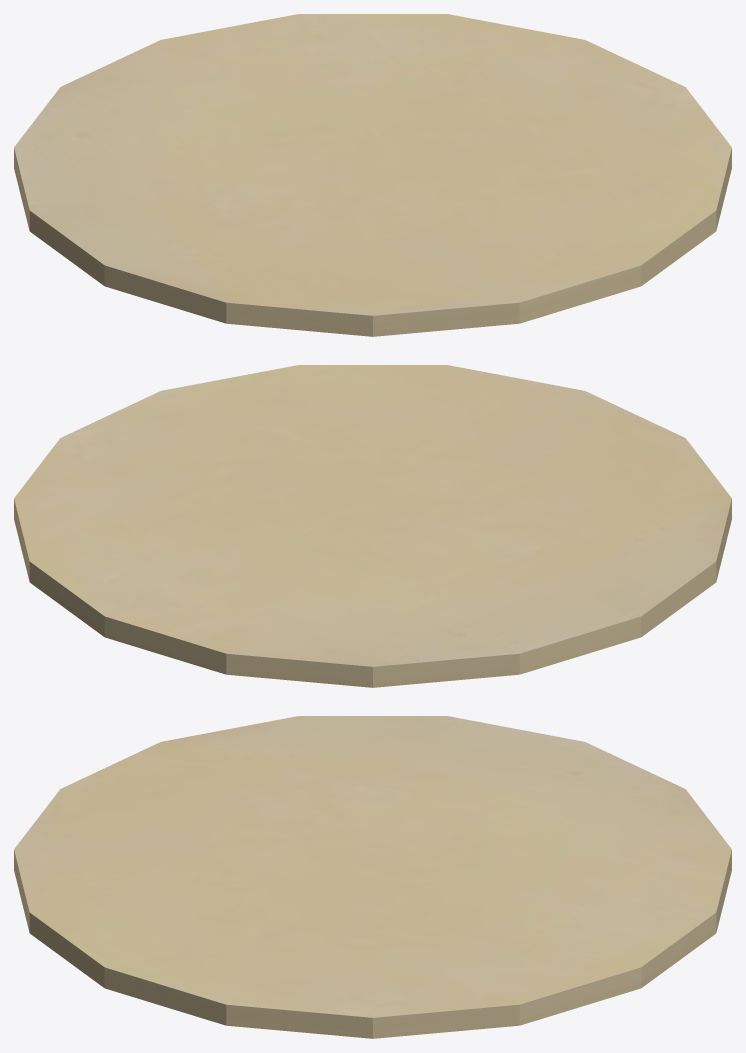
The model's file is cheese block.fbx.
3 renders of one model, top to bottom at view 1: azimuth 30°, elevation 25°; view 2: azimuth 150°, elevation 25°; view 3: azimuth 270°, elevation 25°, orthographic.
Visible parts, largest first — view 1: Cheese; view 2: Cheese; view 3: Cheese.
Boxes of the visible parts, box(x1,y1,x2,y2) form: Cheese: box(14, 14, 731, 336); Cheese: box(14, 365, 731, 687); Cheese: box(14, 716, 731, 1038).
Bounding box in the file's own units: 10.29 × 0.3338 × 10.34.
